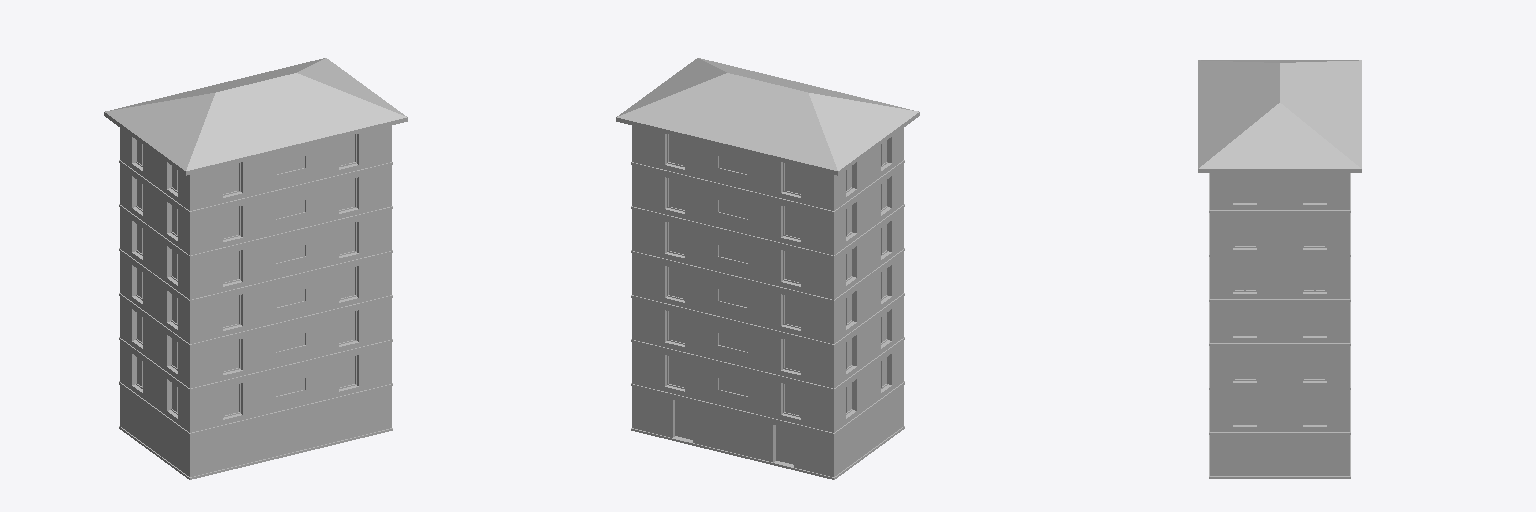
File: residential_brick_4.obj
3 renders of one model, left to right at view 1: azimuth 30°, elevation 25°; view 2: azimuth 150°, elevation 25°; view 3: azimuth 270°, elevation 25°, orthographic.
Parts seen in each view (by area): view 1: building_4; view 2: building_4; view 3: building_4.
Part boxes in pixels (bbox=[...]): building_4: bbox=[104, 58, 407, 479]; building_4: bbox=[616, 58, 919, 479]; building_4: bbox=[1198, 60, 1361, 478].
Size of the model in its own units: 0.99 by 1.48 by 0.63.